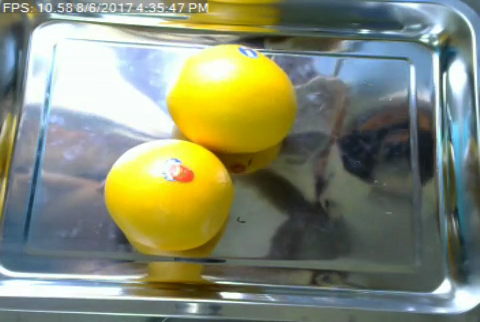Orange: (102, 137, 231, 249), (169, 44, 295, 152)
